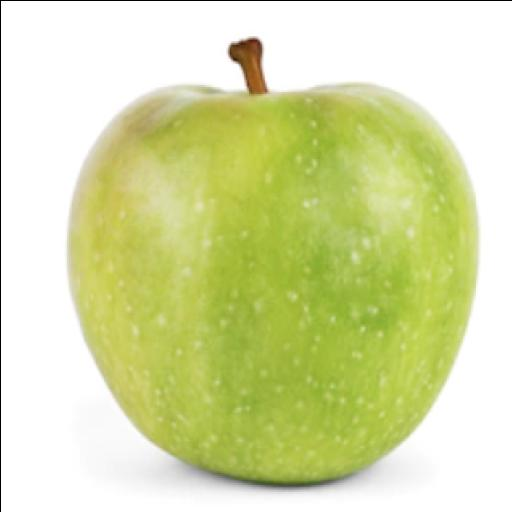apple: (68, 40, 476, 483)
